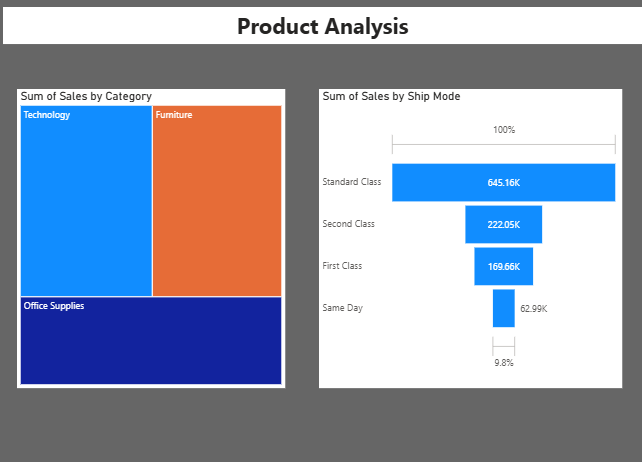

Layout of this report page (visuals, bound fields, positions):
{"tool":"powerbi","page":{"name":"Product Analysis","canvas":[960,720],"ordinal":3},"visuals":[{"type":"funnel","fields":{"Category":["Sample - Superstore.Ship Mode"],"Y":["Sum(Sample - Superstore.Sales)"]},"box":[470.3,149.8,441.8,435.8],"z":0},{"type":"treemap","fields":{"Group":["Sample - Superstore.Category"],"Values":["Sum(Sample - Superstore.Sales)"]},"box":[30,149.8,390.9,435.8],"z":1},{"type":"textbox","box":[10.5,30,931.5,53.9],"z":2}]}

Visuals, with their boxes in screenshot pixels (x1, y1, x2, y2):
funnel - Sample - Superstore.Ship Mode x Sum(Sample - Superstore.Sales): left=318, top=87, right=618, bottom=383
treemap - Sample - Superstore.Category x Sum(Sample - Superstore.Sales): left=19, top=87, right=284, bottom=383
textbox: left=5, top=5, right=638, bottom=42
